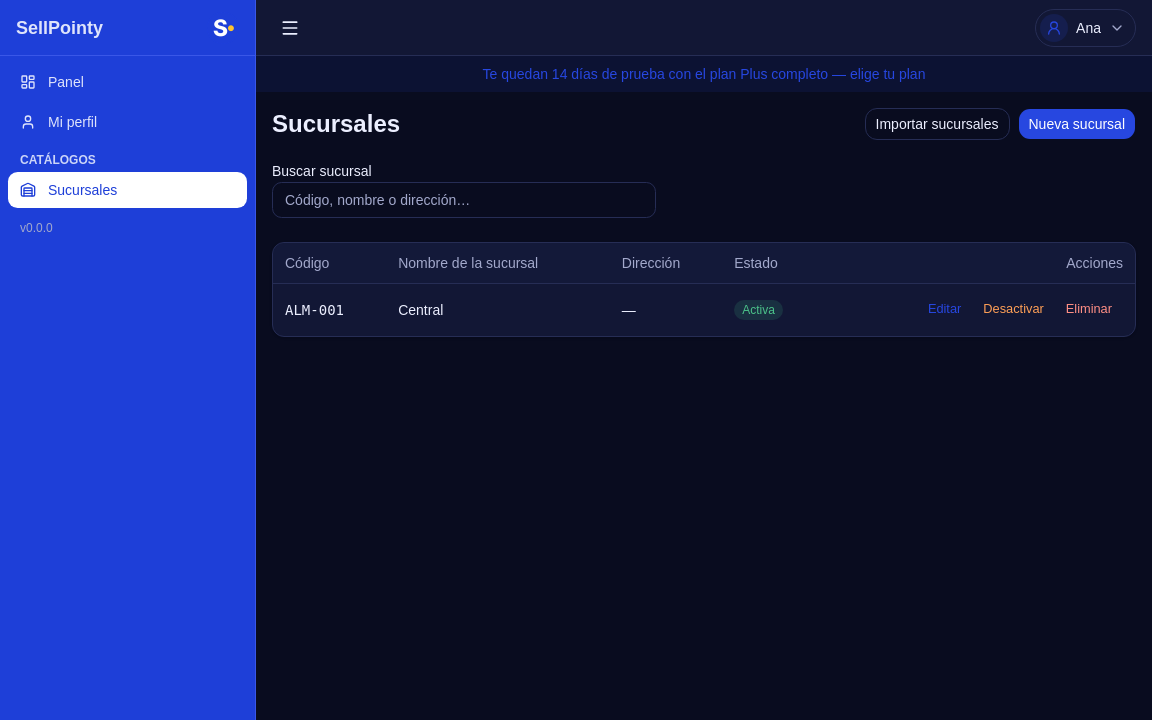
Eliminar una sucursal (2026-08-25) › el 409 por historia se muestra y el diálogo se cierra
Expected: the text "Central" is shown, [386,283,610,336]
Click the button "Eliminar". click: (1089,310)
box: [1055,296,1123,324]
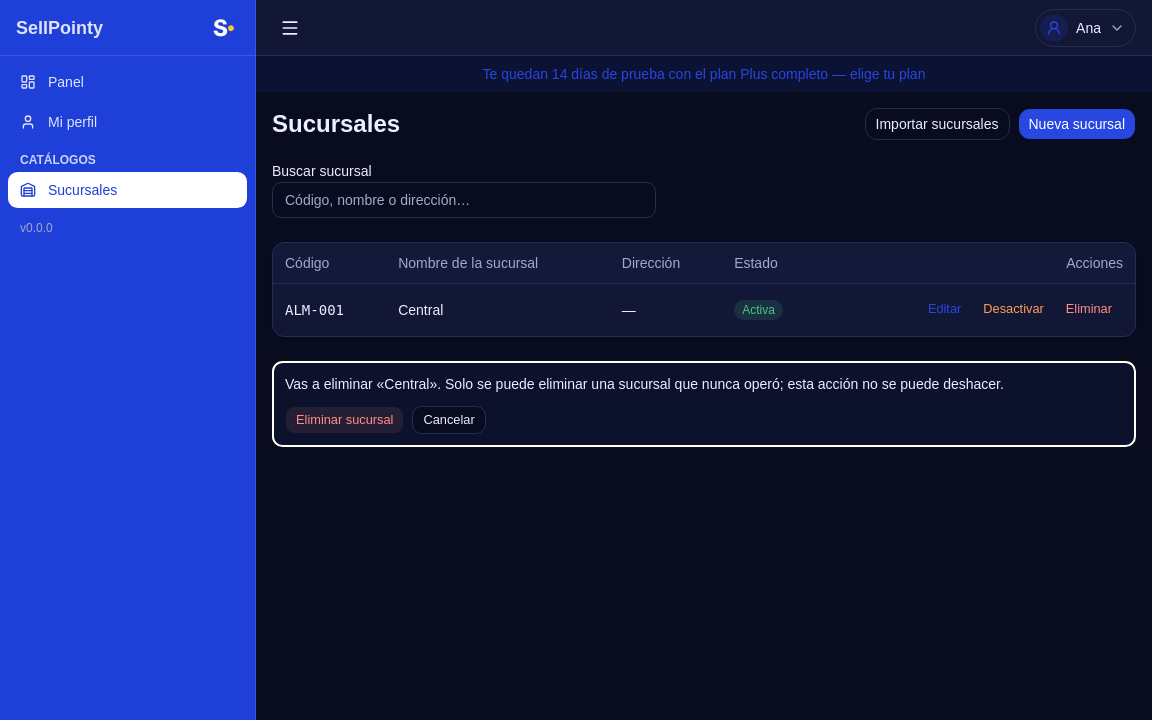
Click the button "Eliminar sucursal". click: (345,420)
box: [285,406,404,434]
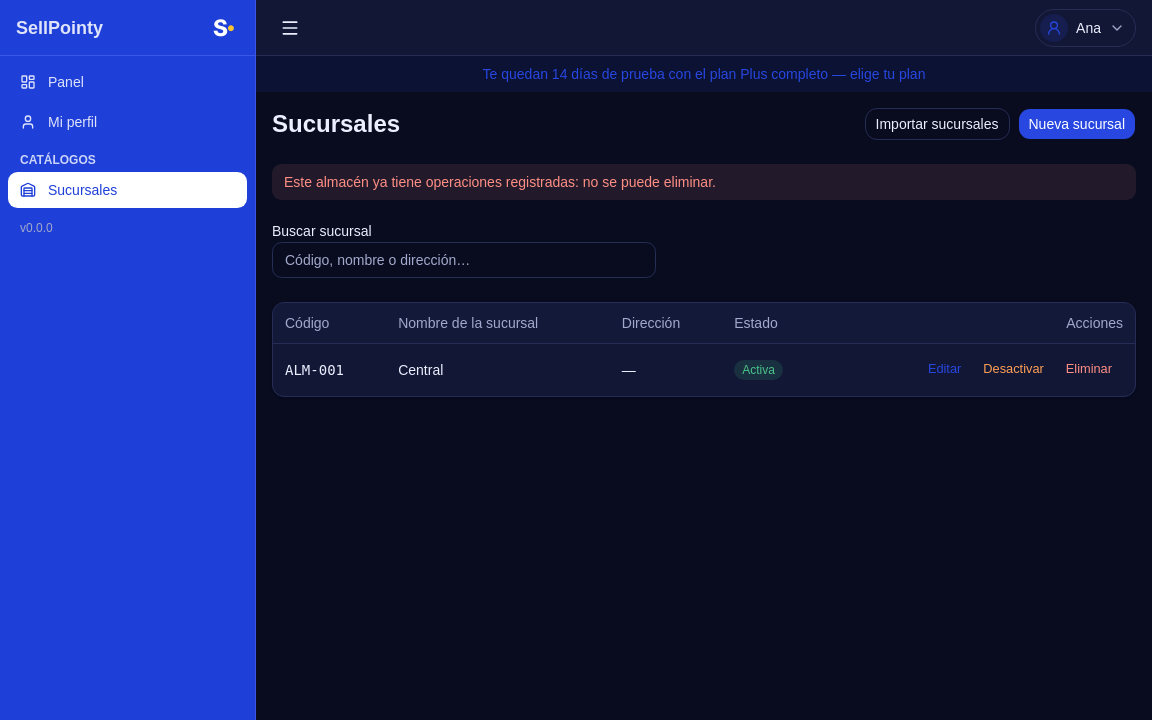
Now the message shows "operaciones registradas", box [284,174,716,190]
Now the dialog with test id "delete-warehouse-dialog" is gone
